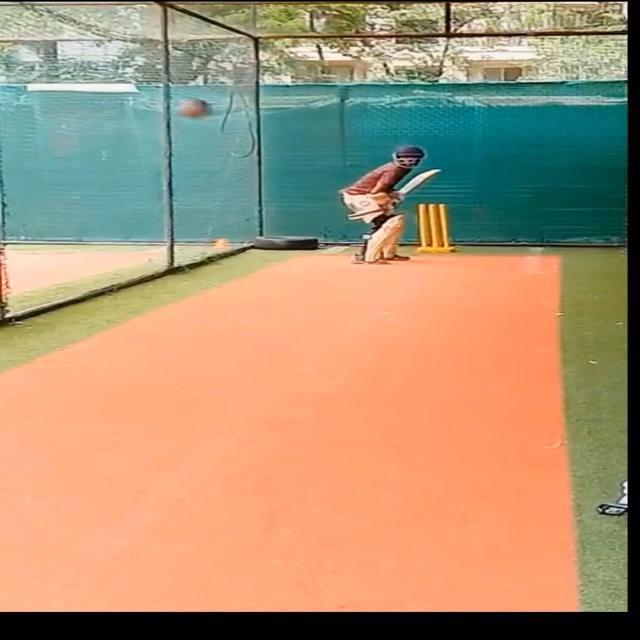ball: (172, 96, 215, 119)
stump: (415, 202, 456, 254)
